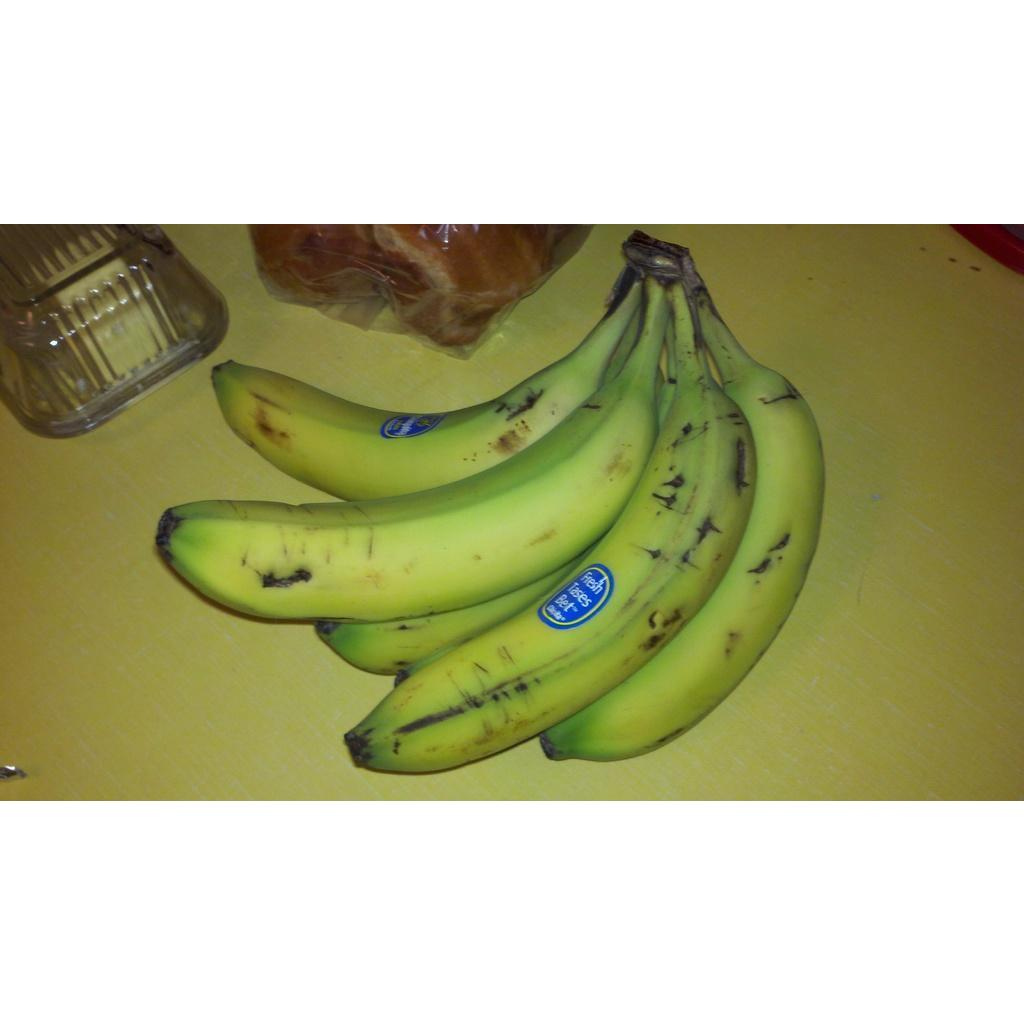banana: (342, 287, 760, 777), (167, 282, 662, 623), (536, 259, 826, 768), (210, 263, 643, 499)
